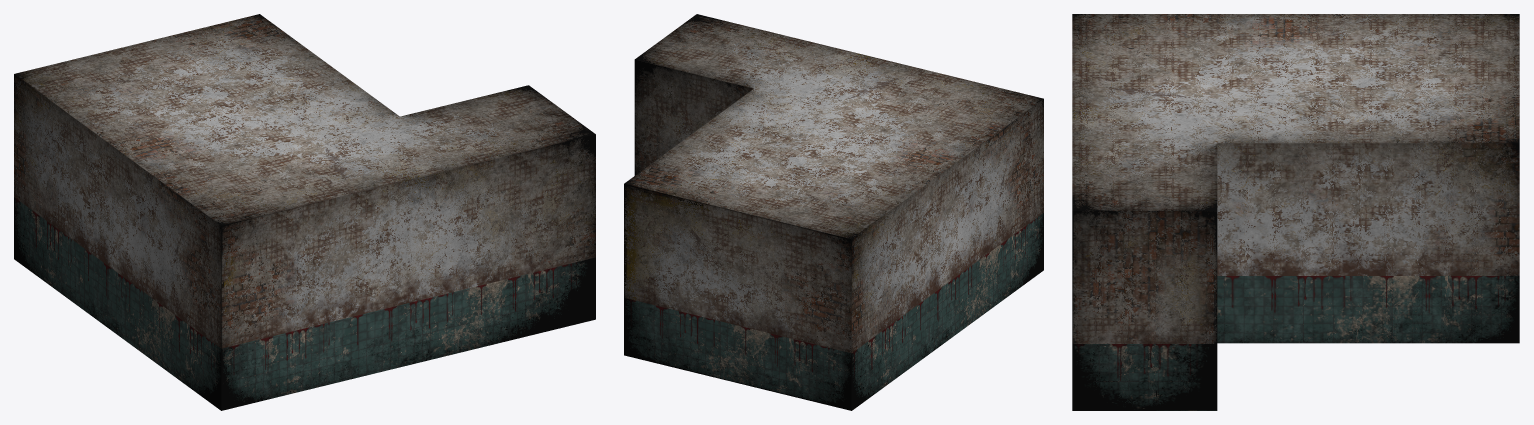
File: bathroom.fbx
3 renders of one model, left to right at view 1: azimuth 30°, elevation 25°; view 2: azimuth 150°, elevation 25°; view 3: azimuth 270°, elevation 25°, orthographic. The views are drawn at different scales.
Visible parts, largest first — view 1: Cube; view 2: Cube; view 3: Cube.
Part boxes in pixels (bbox=[...]): Cube: bbox=[14, 14, 595, 410]; Cube: bbox=[624, 14, 1043, 410]; Cube: bbox=[1072, 14, 1519, 410].
Size of the model in its own units: 1917 by 906 by 1838.
